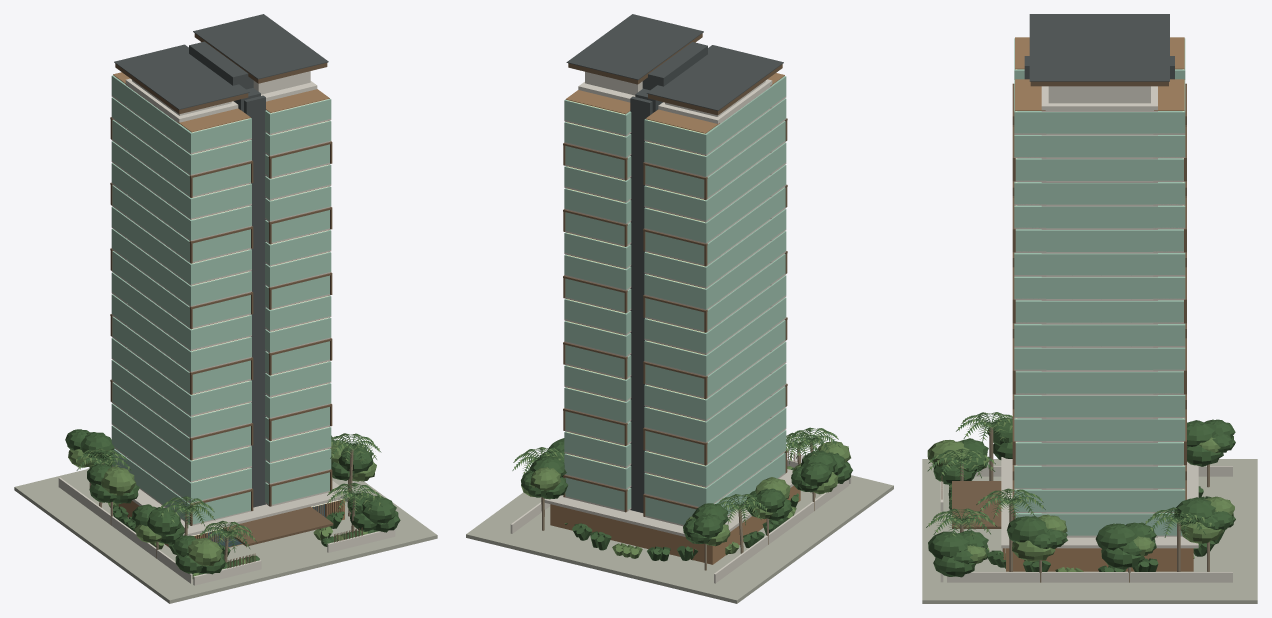
Rendered from promoven-premium.glb.
3 views of the same model, side by side, from view 1: azimuth 30°, elevation 25°; view 2: azimuth 150°, elevation 25°; view 3: azimuth 270°, elevation 25° (orthographic). The views are drawn at different scales.
Visible parts, largest first — view 1: PODIUM_ground, ROOFTOP_graphite, LANDSCAPE_leaf, FACADE_SHARED_graphite, FACADE_SHARED_slab, LANDSCAPE_leaf_light, FACADE_SHARED_bronze, FACADE_SHARED_ivory, ENTRANCE_ivory, ENTRANCE_bronze, UNIT_1403_PROXY, UNIT_603_PROXY (+59 smaller); view 2: PODIUM_ground, ROOFTOP_graphite, LANDSCAPE_leaf, FACADE_SHARED_graphite, FACADE_SHARED_slab, FACADE_SHARED_bronze, PODIUM_wood, LANDSCAPE_leaf_light, FACADE_SHARED_ivory, FACADE_SHARED_wood, UNIT_1701_PROXY, UNIT_601_PROXY (+58 smaller); view 3: PODIUM_ground, LANDSCAPE_leaf, ROOFTOP_graphite, FACADE_SHARED_ivory, LANDSCAPE_leaf_light, ENTRANCE_ivory, FACADE_SHARED_wood, PODIUM_wood, FACADE_SHARED_bronze, FACADE_SHARED_slab, UNIT_302_PROXY, PODIUM_slab (+40 smaller).
Boxes of the visible parts, x1=… form: PODIUM_ground: x1=14, y1=469, x2=437, y2=603; ROOFTOP_graphite: x1=114, y1=14, x2=328, y2=109; LANDSCAPE_leaf: x1=65, y1=429, x2=400, y2=574; FACADE_SHARED_graphite: x1=233, y1=88, x2=265, y2=507; FACADE_SHARED_slab: x1=111, y1=95, x2=331, y2=525; LANDSCAPE_leaf_light: x1=68, y1=433, x2=381, y2=578; FACADE_SHARED_bronze: x1=110, y1=117, x2=332, y2=525; FACADE_SHARED_ivory: x1=125, y1=78, x2=317, y2=507; ENTRANCE_ivory: x1=58, y1=477, x2=395, y2=585; ENTRANCE_bronze: x1=205, y1=503, x2=362, y2=568; UNIT_1403_PROXY: x1=149, y1=191, x2=251, y2=240; UNIT_603_PROXY: x1=149, y1=365, x2=251, y2=415; PODIUM_ground: x1=466, y1=475, x2=893, y2=603; ROOFTOP_graphite: x1=566, y1=14, x2=783, y2=110; LANDSCAPE_leaf: x1=512, y1=427, x2=852, y2=561; FACADE_SHARED_graphite: x1=630, y1=88, x2=662, y2=512; FACADE_SHARED_slab: x1=564, y1=96, x2=786, y2=526; FACADE_SHARED_bronze: x1=563, y1=118, x2=787, y2=516; PODIUM_wood: x1=550, y1=485, x2=800, y2=564; LANDSCAPE_leaf_light: x1=514, y1=428, x2=850, y2=558; FACADE_SHARED_ivory: x1=578, y1=79, x2=772, y2=516; FACADE_SHARED_wood: x1=565, y1=73, x2=784, y2=487; UNIT_1701_PROXY: x1=644, y1=126, x2=747, y2=176; UNIT_601_PROXY: x1=644, y1=369, x2=747, y2=419; PODIUM_ground: x1=922, y1=459, x2=1257, y2=603; LANDSCAPE_leaf: x1=926, y1=412, x2=1235, y2=577; ROOFTOP_graphite: x1=1029, y1=14, x2=1169, y2=81; FACADE_SHARED_ivory: x1=1041, y1=86, x2=1157, y2=537; LANDSCAPE_leaf_light: x1=927, y1=413, x2=1234, y2=571; ENTRANCE_ivory: x1=940, y1=466, x2=1232, y2=582; FACADE_SHARED_wood: x1=1015, y1=37, x2=1184, y2=110; PODIUM_wood: x1=1006, y1=548, x2=1193, y2=571; FACADE_SHARED_bronze: x1=1012, y1=83, x2=1186, y2=519; FACADE_SHARED_slab: x1=1014, y1=133, x2=1185, y2=536; UNIT_302_PROXY: x1=1095, y1=465, x2=1185, y2=488; PODIUM_slab: x1=1001, y1=457, x2=1198, y2=548.
Bounding box in the file's own units: 40 × 64.94 × 40.12.
